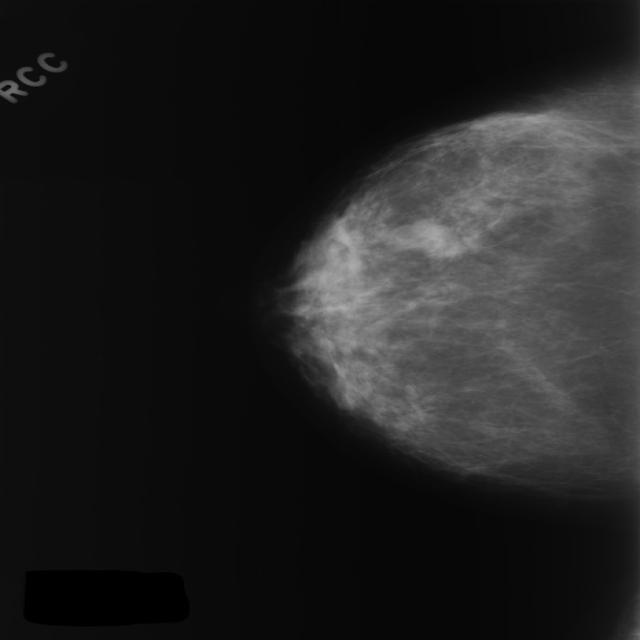tumour: (400, 217, 462, 258)
